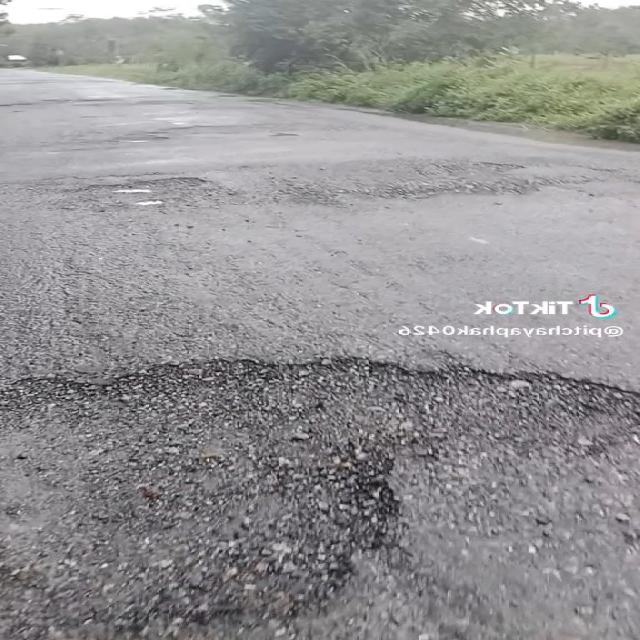Poth-hole: (304, 146, 558, 223)
